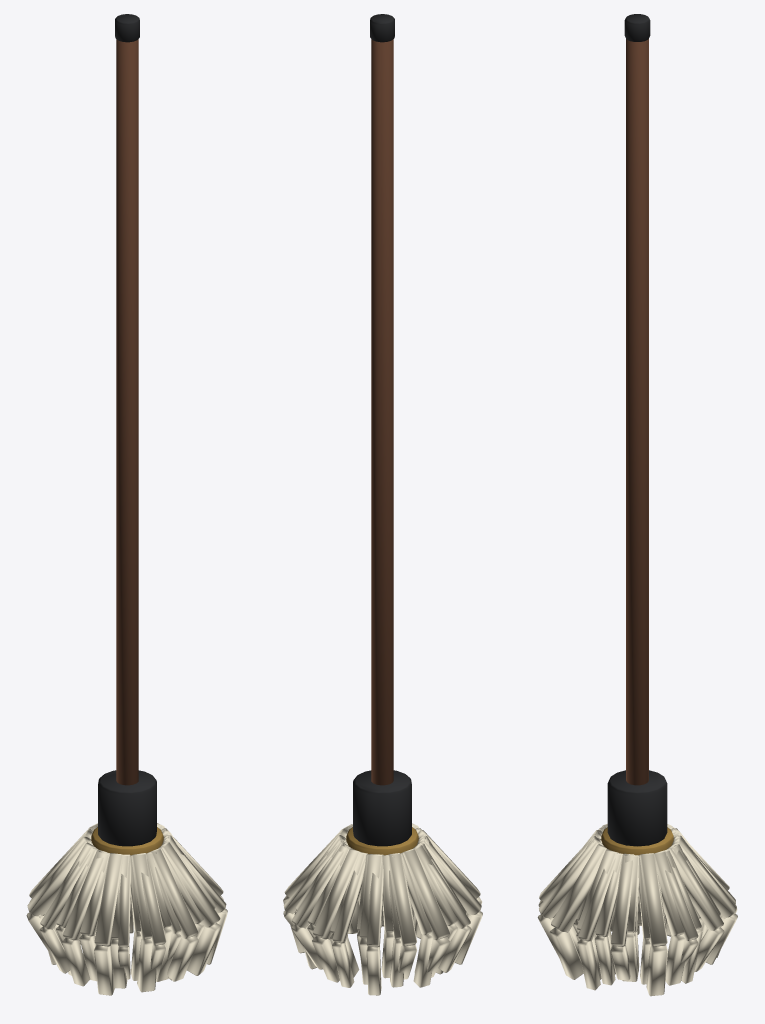
Rendered from asset_072_mop.glb.
3 views of the same model, side by side, from view 1: azimuth 30°, elevation 25°; view 2: azimuth 150°, elevation 25°; view 3: azimuth 270°, elevation 25° (orthographic).
Visible parts, largest first — view 1: MESH_MopSkirt, MESH_MopHandle, MESH_MopCollar, MESH_MopBand, MESH_MopHandleCap; view 2: MESH_MopSkirt, MESH_MopHandle, MESH_MopCollar, MESH_MopBand, MESH_MopHandleCap; view 3: MESH_MopSkirt, MESH_MopHandle, MESH_MopCollar, MESH_MopBand, MESH_MopHandleCap.
Boxes of the visible parts, box(x1,y1,x2,y2) form: MESH_MopSkirt: box(26, 823, 227, 995); MESH_MopHandle: box(116, 39, 138, 785); MESH_MopCollar: box(98, 770, 156, 846); MESH_MopBand: box(91, 827, 163, 855); MESH_MopHandleCap: box(115, 14, 139, 42); MESH_MopSkirt: box(283, 823, 482, 995); MESH_MopHandle: box(371, 39, 393, 785); MESH_MopCollar: box(353, 770, 411, 846); MESH_MopBand: box(346, 827, 418, 855); MESH_MopHandleCap: box(370, 14, 394, 42); MESH_MopSkirt: box(537, 823, 737, 996); MESH_MopHandle: box(626, 39, 648, 785); MESH_MopCollar: box(607, 770, 667, 846); MESH_MopBand: box(601, 827, 673, 855); MESH_MopHandleCap: box(624, 14, 650, 41).
Bounding box in the file's own units: 0.32 × 1.47 × 0.32.
